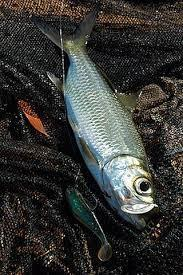Indo-Pacific Tarpon: (63, 13, 156, 252)
